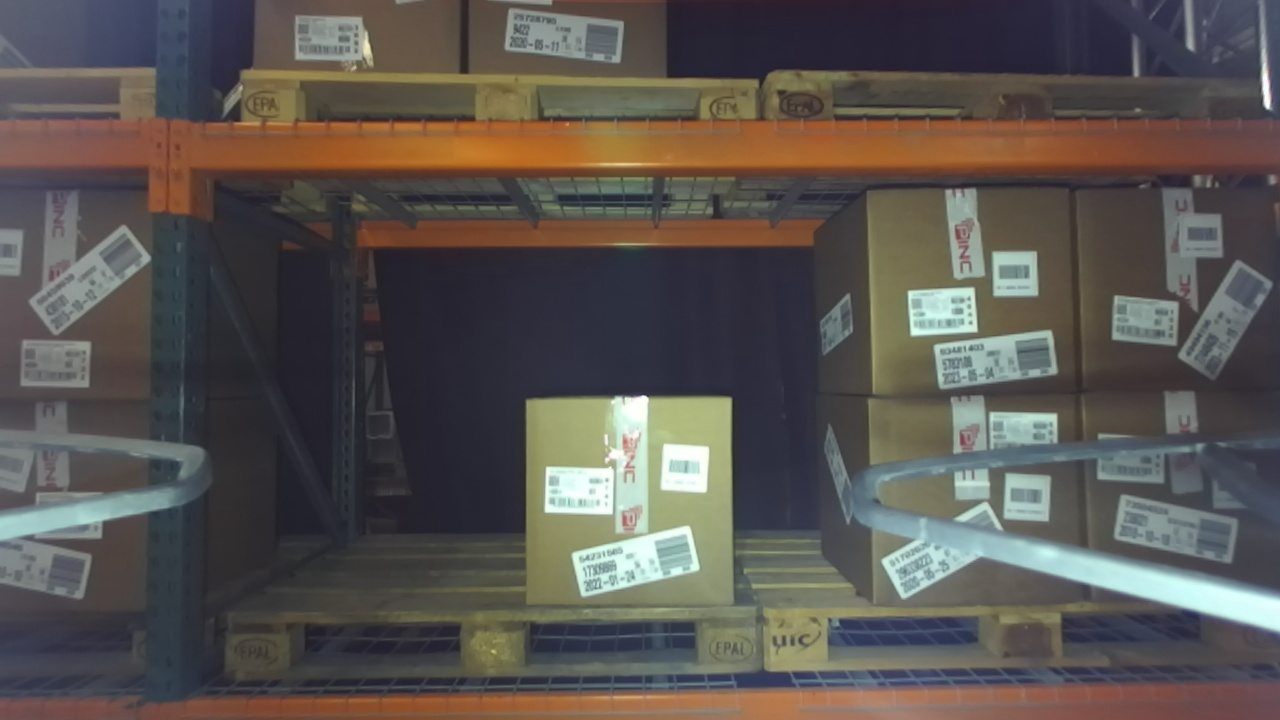box: (496, 380, 771, 632), (838, 382, 1098, 621), (837, 175, 1091, 414), (1067, 378, 1280, 641), (1057, 159, 1280, 409)
